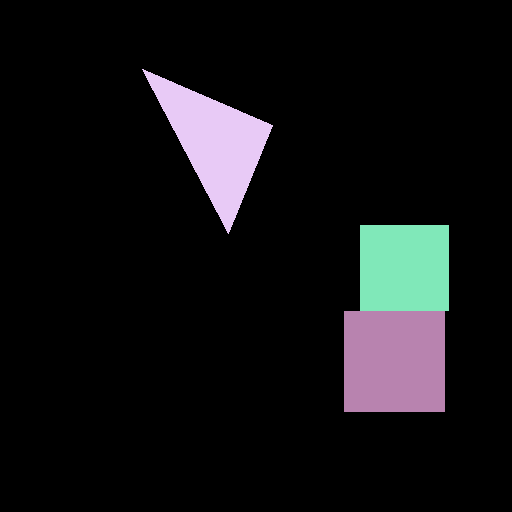rectangle: (344, 225, 448, 411)
triangle: (142, 69, 272, 233)
